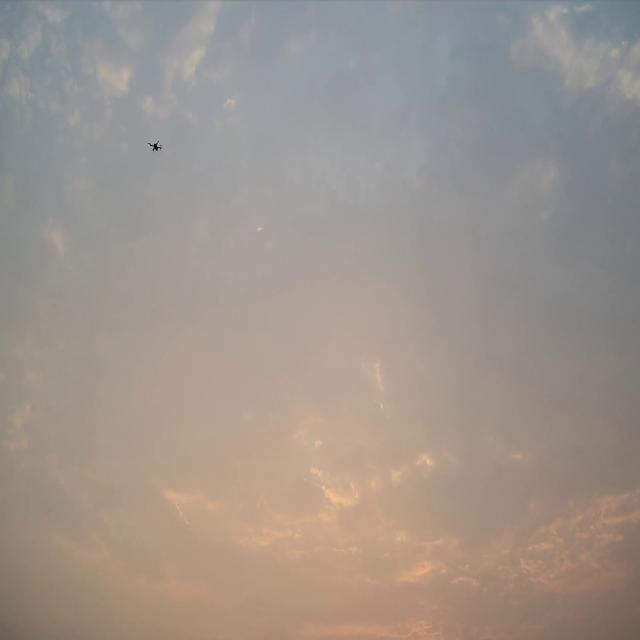UAV: (148, 139, 162, 153)
